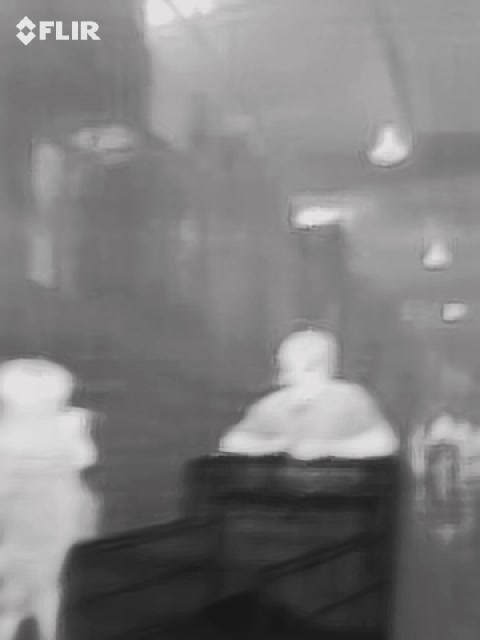head: (1, 358, 75, 411), (275, 329, 338, 390)
